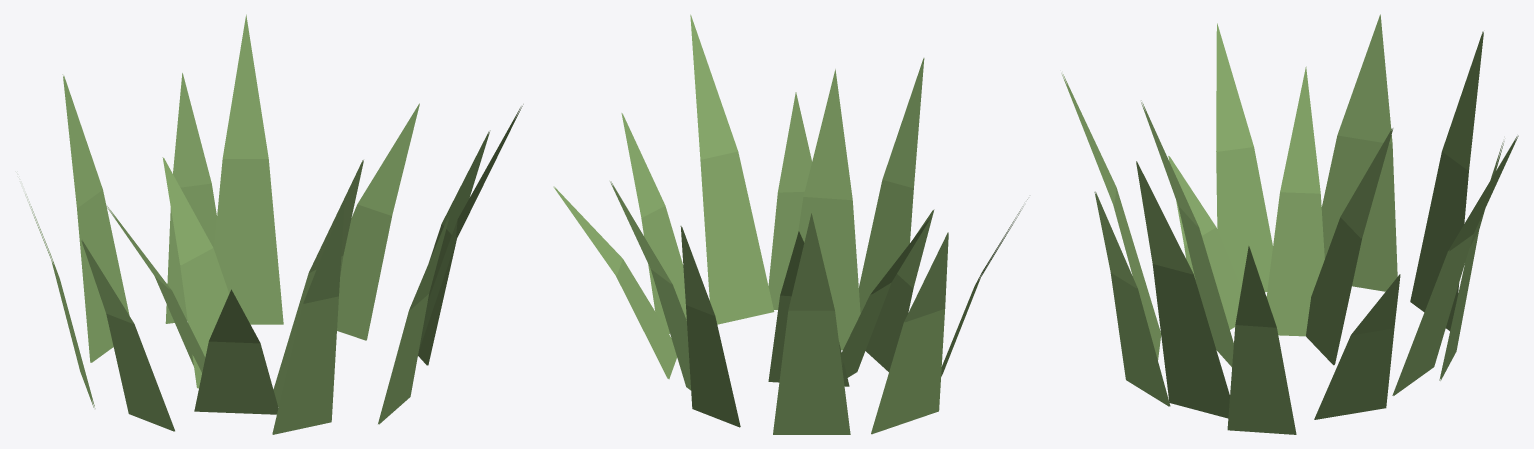
The model's file is Kenya_Grass_Tuft_Cluster.glb.
3 views of the same model, side by side, from view 1: azimuth 30°, elevation 25°; view 2: azimuth 150°, elevation 25°; view 3: azimuth 270°, elevation 25° (orthographic). The views are drawn at different scales.
Visible parts, largest first — view 1: GrassCluster; view 2: GrassCluster; view 3: GrassCluster.
Boxes of the visible parts, x1,y1,x2,y2 form: GrassCluster: (25, 14, 523, 434); GrassCluster: (553, 14, 1027, 434); GrassCluster: (1061, 14, 1518, 434).
Bounding box in the file's own units: 1.25 × 0.7916 × 1.11.
